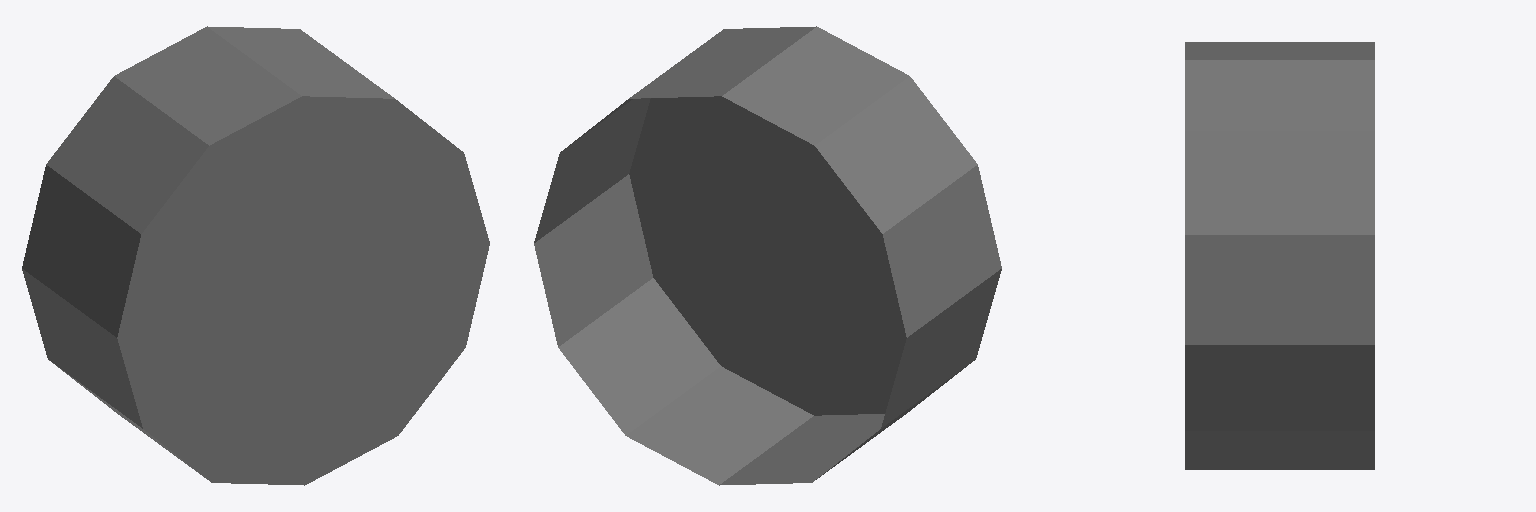
Rendered from Llanta2.obj.
3 renders of one model, left to right at view 1: azimuth 30°, elevation 25°; view 2: azimuth 150°, elevation 25°; view 3: azimuth 270°, elevation 25°, orthographic.
Parts seen in each view (by area): view 1: pCylinder006; view 2: pCylinder006; view 3: pCylinder006.
Boxes of the visible parts, box(x1,y1,x2,y2) form: pCylinder006: box(22, 26, 489, 485); pCylinder006: box(534, 26, 1001, 485); pCylinder006: box(1185, 42, 1374, 469).
Bounding box in the file's own units: 0.128 × 0.1279 × 0.0567.